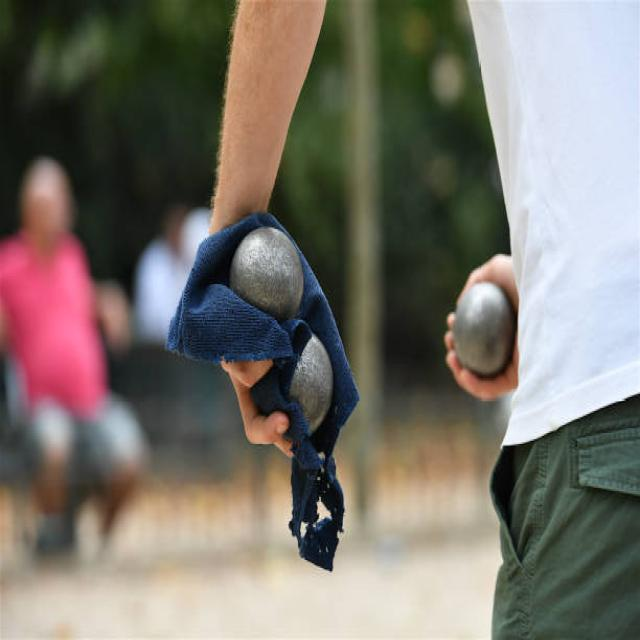petanque: (219, 225, 309, 323), (446, 277, 525, 386), (282, 326, 337, 440)
